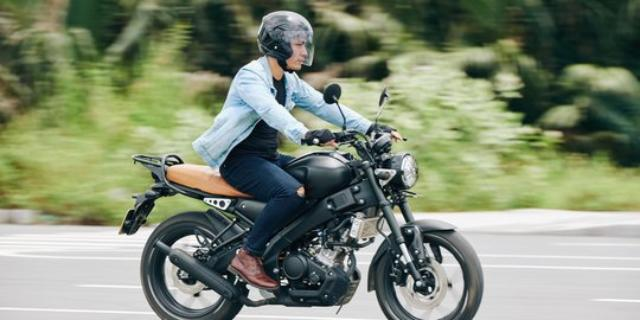helm: (257, 13, 322, 78)
motor: (119, 83, 485, 320)
